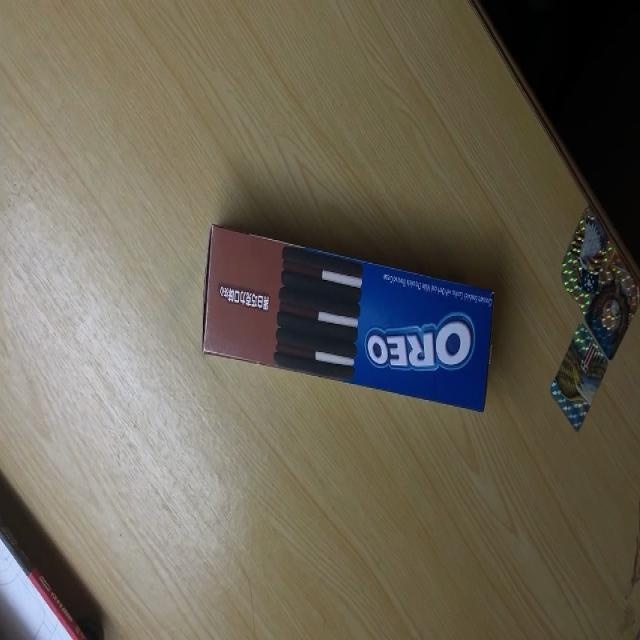Oreo: (199, 223, 497, 416)
